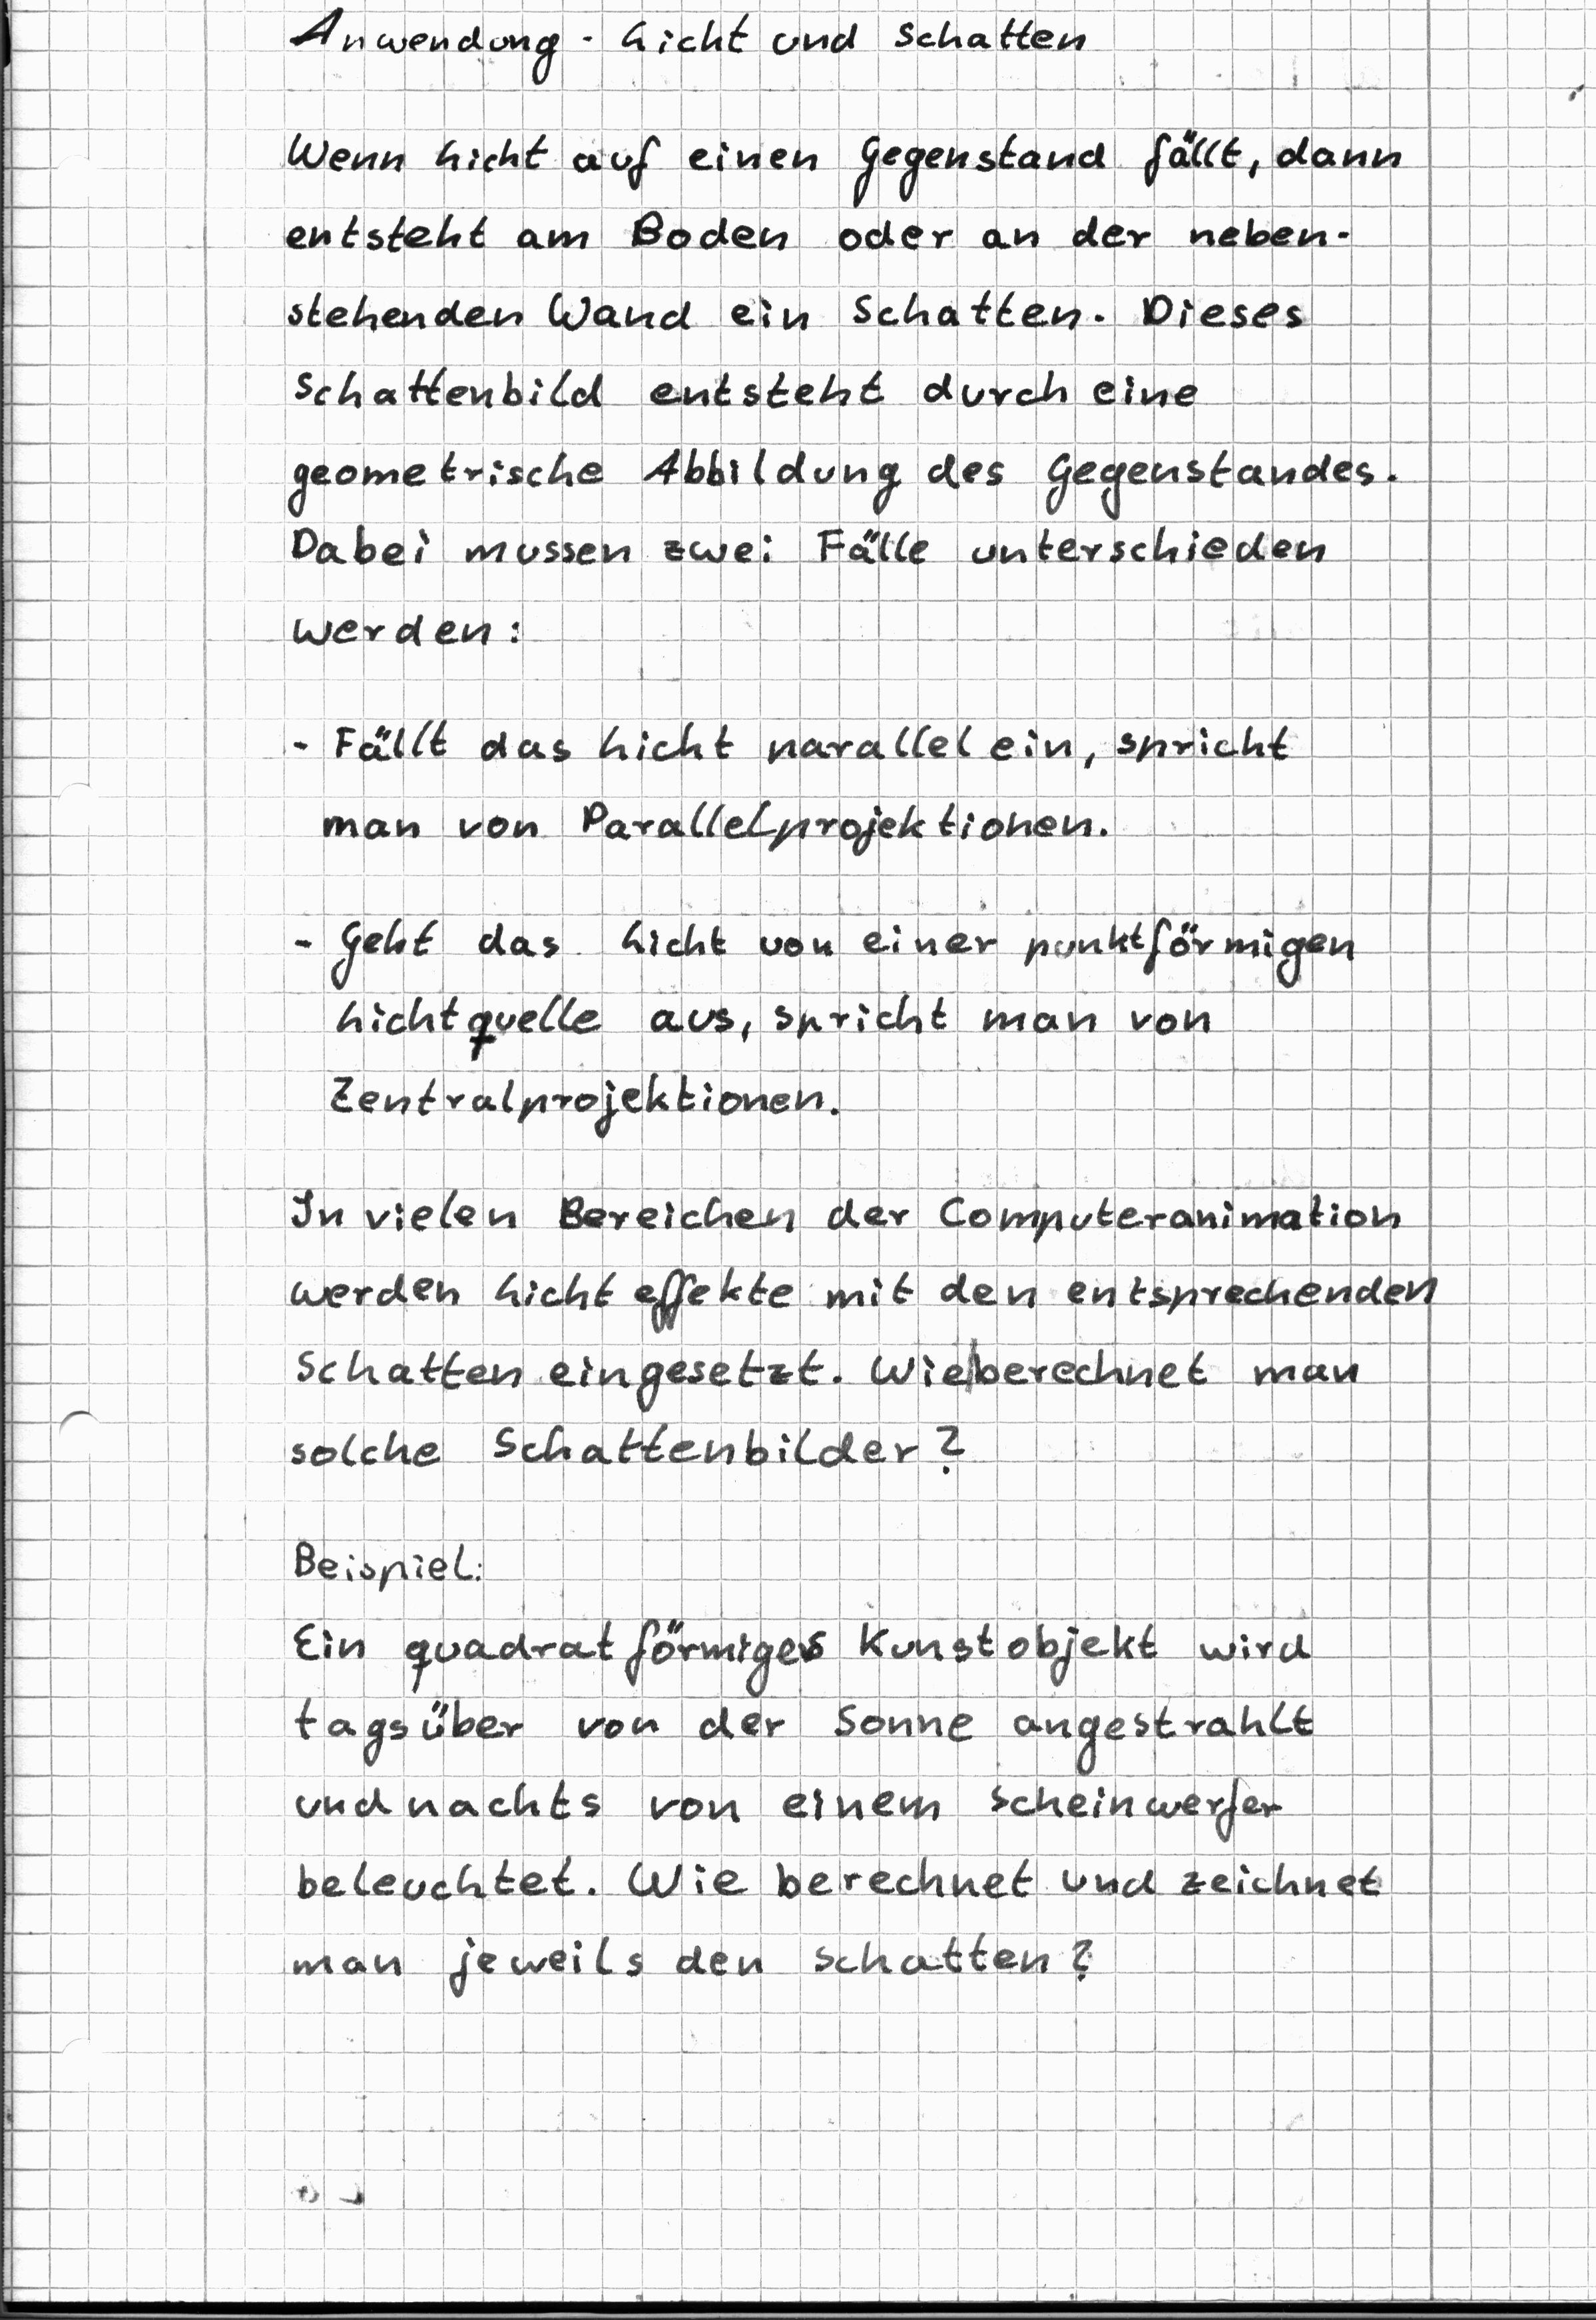word: (274, 114, 1412, 656), (282, 1613, 1392, 2019), (279, 1176, 1454, 1485), (278, 904, 1377, 1149), (276, 705, 1309, 866), (280, 1516, 502, 1608)
